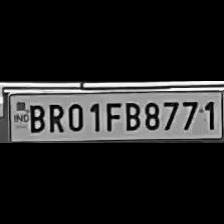0: (64, 100, 86, 132)
1: (198, 98, 218, 130), (86, 100, 102, 132)
7: (176, 98, 198, 130), (160, 98, 178, 130)
8: (141, 98, 161, 132)
B: (120, 98, 142, 132), (25, 101, 45, 133)
F: (100, 100, 120, 132)
R: (46, 100, 64, 134)
